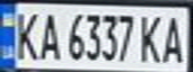3: (81, 10, 103, 62), (100, 10, 121, 62)
6: (63, 9, 84, 61)
7: (115, 11, 139, 63)
A: (160, 11, 190, 64), (36, 8, 63, 61)
K: (9, 7, 42, 62), (136, 11, 166, 64)
